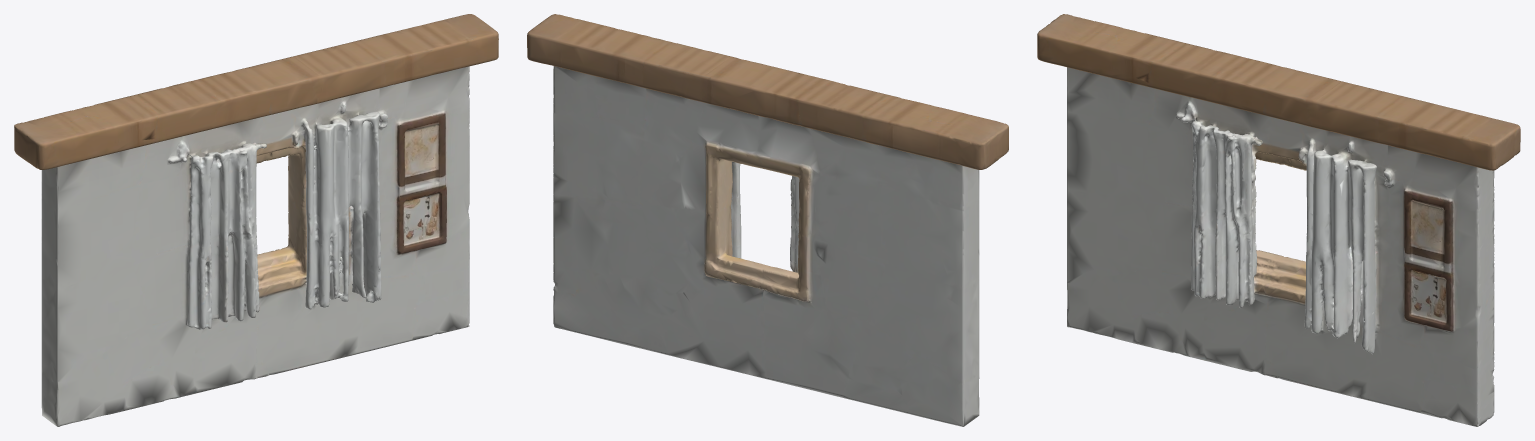
The model's file is curtain-wall.glb.
3 renders of one model, left to right at view 1: azimuth 30°, elevation 25°; view 2: azimuth 150°, elevation 25°; view 3: azimuth 330°, elevation 25°, orthographic.
Size of the model in its own units: 2 by 1.22 by 0.2534.
1 material, 1 textured.
